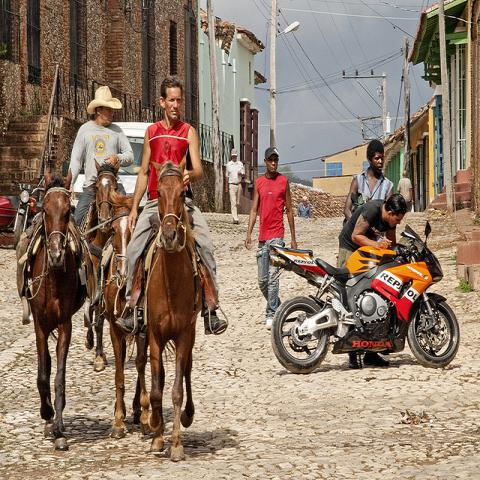motorcycle: (262, 220, 461, 377)
truck: (114, 122, 155, 194)
